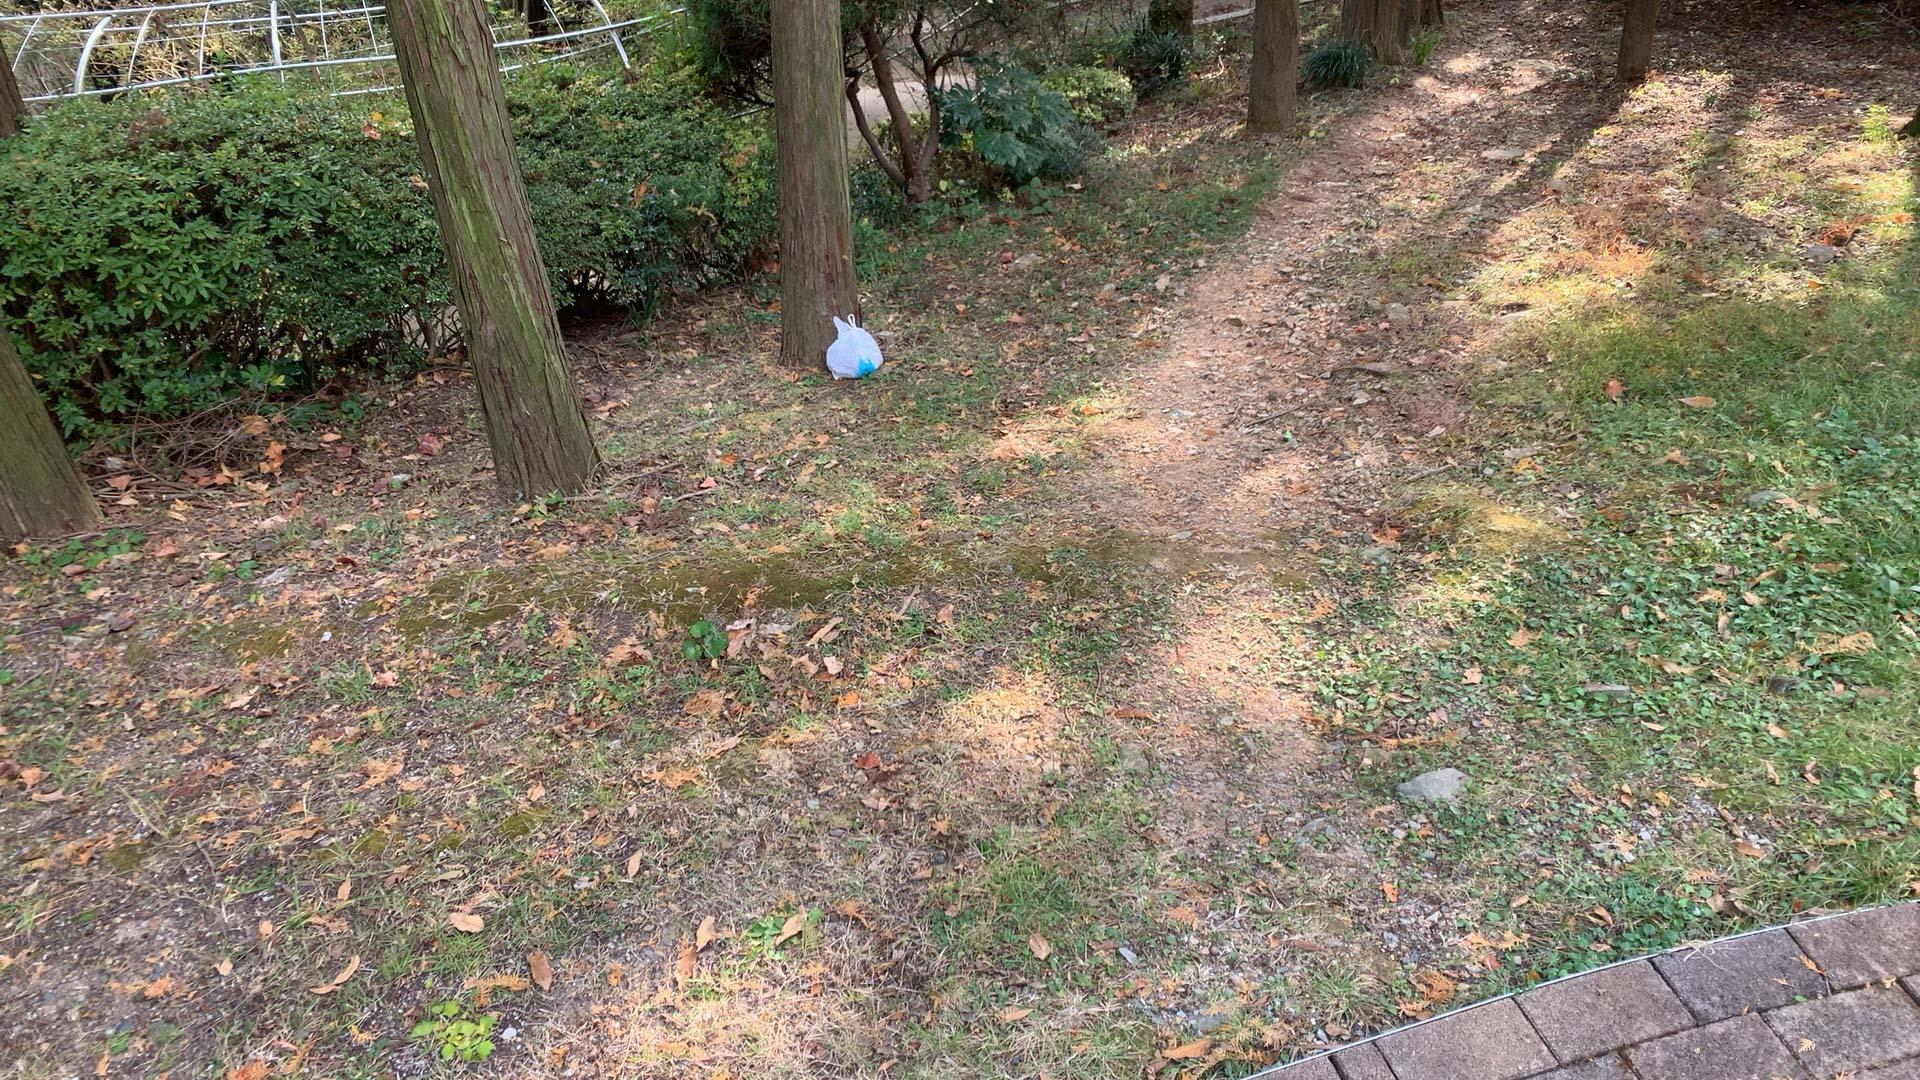white_bag: (823, 309, 887, 380)
